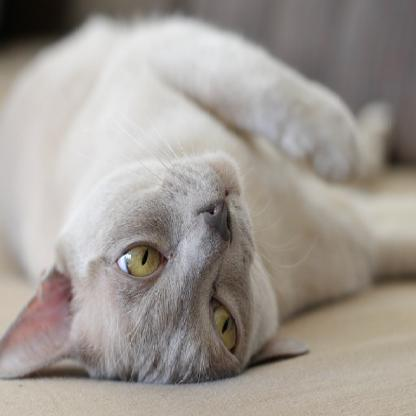cat: (0, 140, 312, 383)
